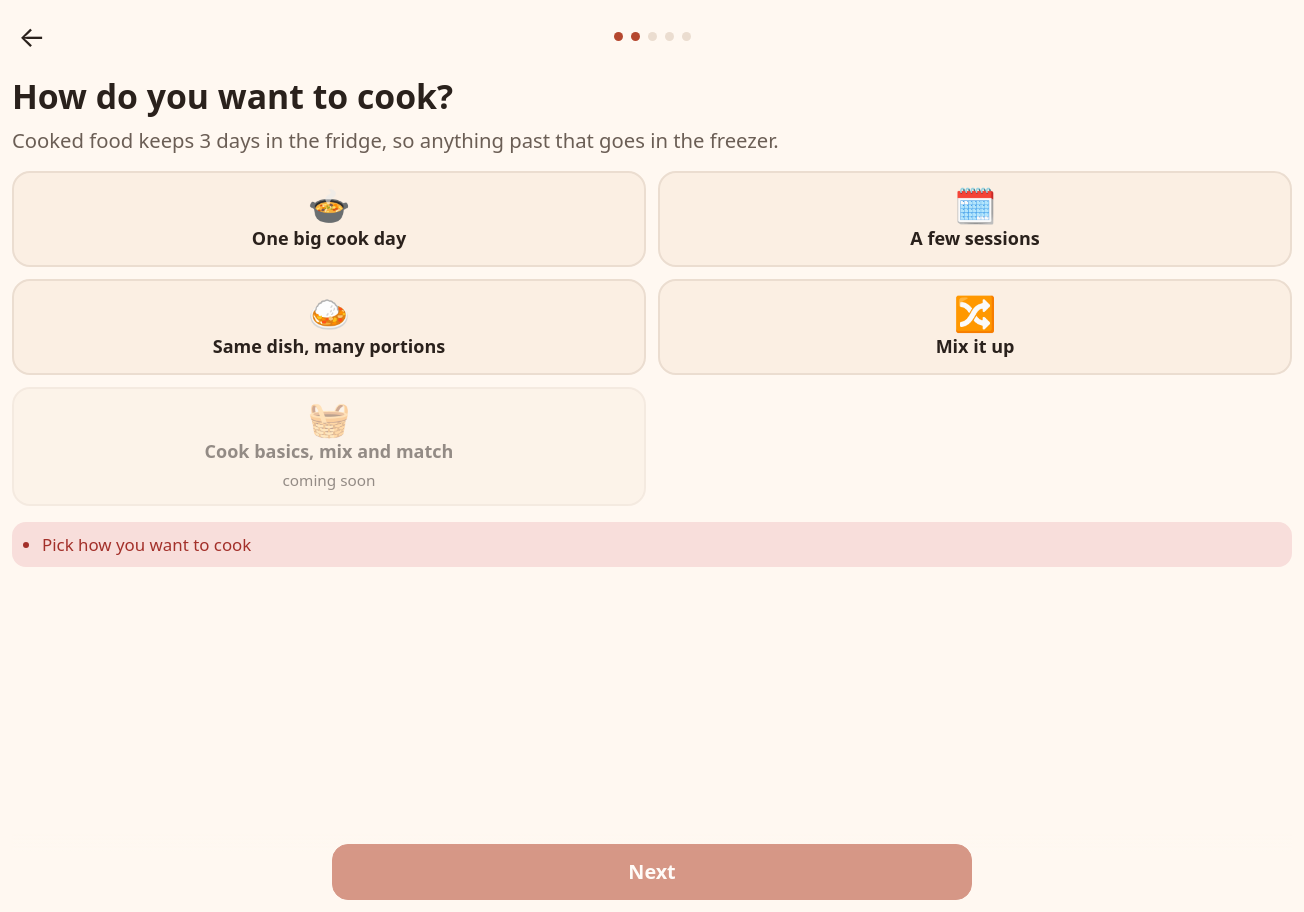
Test: C1b How do you want to cook? (H5): the four options, down to the request › Same dish, many portions: one dish for 8 portions, cooked on the day you pick
Click the button "🍛 Same dish, many portions". click: (329, 327)
box: [12, 279, 646, 375]
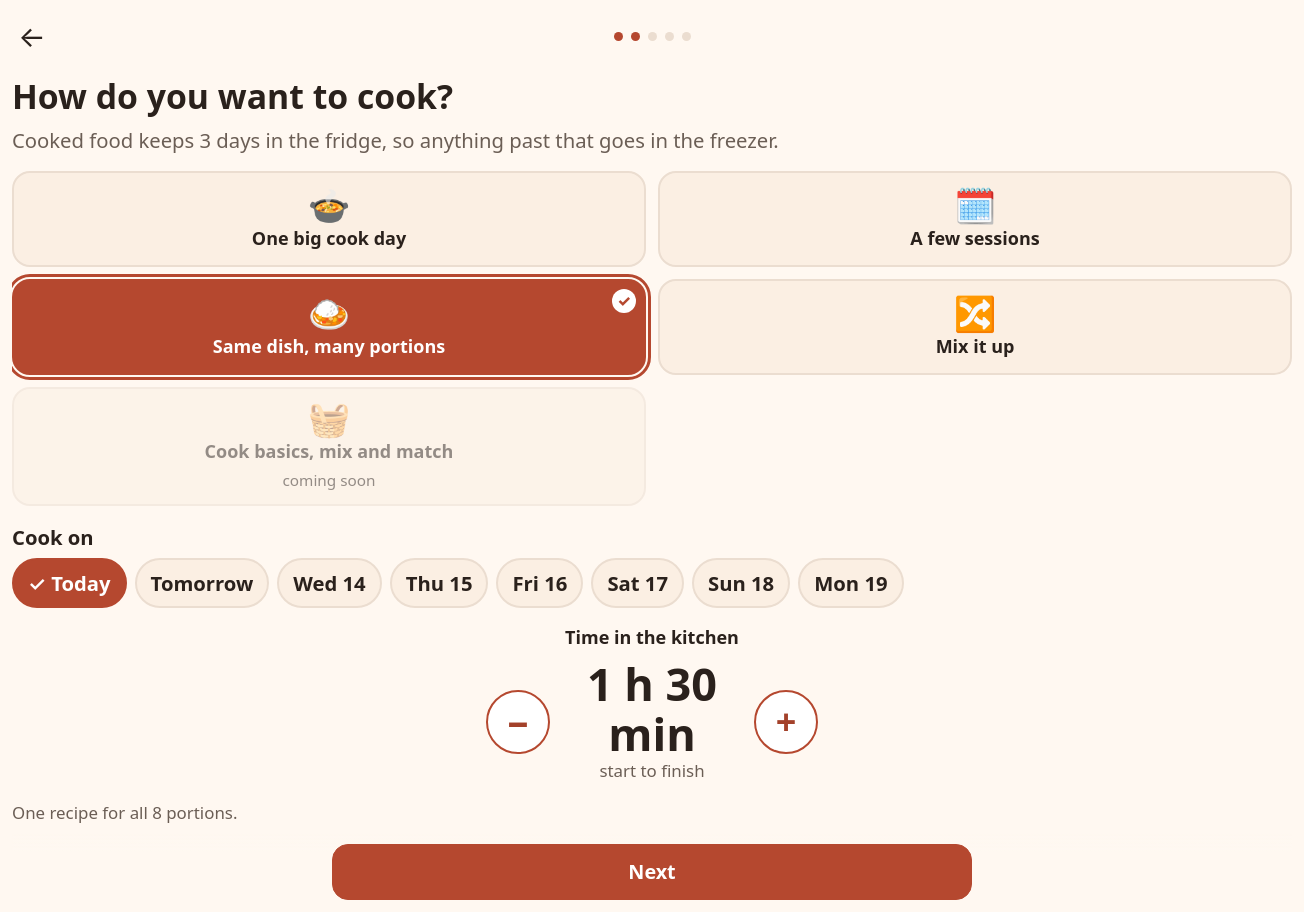
expect the text "One recipe for all 8 portions." is shown: met, box [12, 801, 237, 824]
